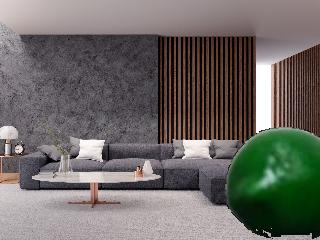lime: (226, 127, 320, 237)
